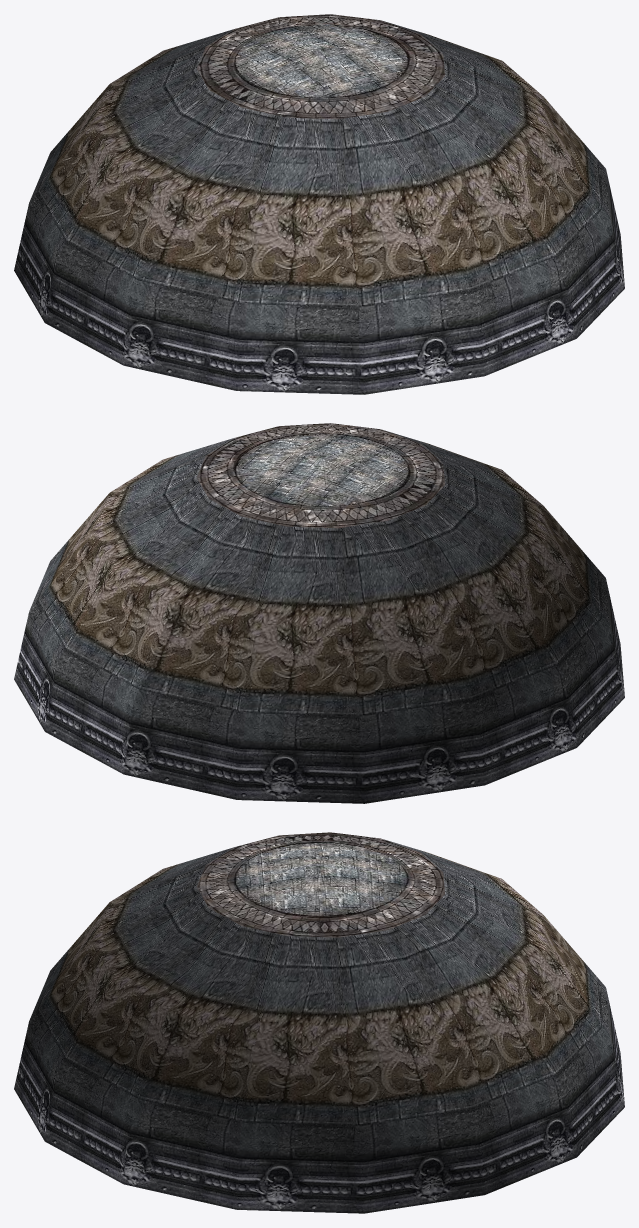
3 renders of one model, top to bottom at view 1: azimuth 30°, elevation 25°; view 2: azimuth 150°, elevation 25°; view 3: azimuth 270°, elevation 25°, orthographic.
Visible parts, largest first — view 1: Obj115; view 2: Obj115; view 3: Obj115.
Part boxes in pixels (<box>): Obj115: <box>14,14,624,394</box>; Obj115: <box>14,423,624,803</box>; Obj115: <box>14,832,624,1213</box>.
Size of the model in its own units: 197 by 77.22 by 196.
